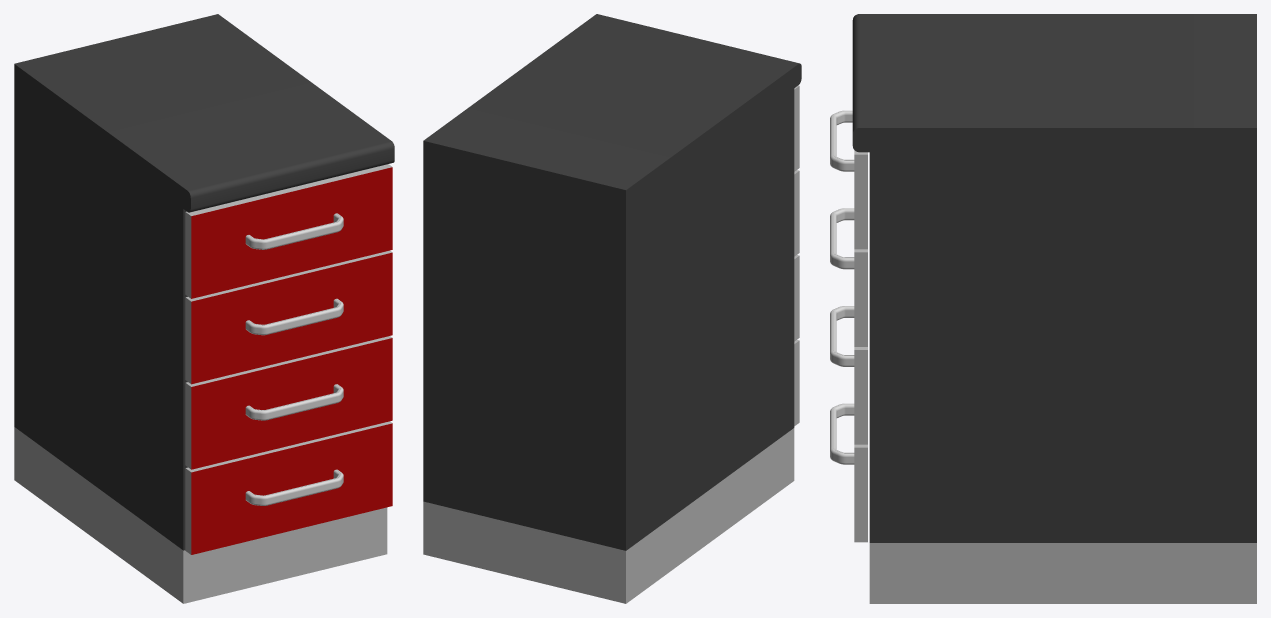
File: cassettiera.obj
3 views of the same model, side by side, from view 1: azimuth 30°, elevation 25°; view 2: azimuth 150°, elevation 25°; view 3: azimuth 270°, elevation 25° (orthographic). The views are drawn at different scales.
Visible parts, largest first — view 1: Box55_1, Line68_3, Box57_7, Box582_9, Box602_15, Box562_5, Box592_12, Loft20_18, Loft19_17, Loft18_2, Loft21_19, Box60_14 (+7 smaller); view 2: Box55_1, Line68_3, Box57_7; view 3: Box55_1, Line68_3, Box57_7, Box563_6, Box603_16, Box583_10, Box593_13, Loft21_19, Loft19_17, Loft20_18, Loft18_2.
Boxes of the visible parts, x1=… form: Box55_1: x1=14, y1=85, x2=187, y2=550; Line68_3: x1=14, y1=14, x2=394, y2=212; Box57_7: x1=14, y1=427, x2=387, y2=603; Box582_9: x1=191, y1=338, x2=392, y2=469; Box602_15: x1=191, y1=167, x2=392, y2=298; Box562_5: x1=191, y1=423, x2=392, y2=554; Box592_12: x1=191, y1=252, x2=392, y2=384; Loft20_18: x1=245, y1=384, x2=343, y2=420; Loft19_17: x1=245, y1=298, x2=343, y2=335; Loft18_2: x1=245, y1=213, x2=343, y2=249; Loft21_19: x1=245, y1=469, x2=343, y2=505; Box60_14: x1=186, y1=164, x2=392, y2=215; Box55_1: x1=423, y1=88, x2=794, y2=550; Line68_3: x1=423, y1=14, x2=801, y2=211; Box57_7: x1=423, y1=428, x2=794, y2=603; Box55_1: x1=869, y1=152, x2=1256, y2=542; Line68_3: x1=852, y1=14, x2=1256, y2=152; Box57_7: x1=869, y1=543, x2=1256, y2=603; Box563_6: x1=854, y1=447, x2=867, y2=542; Box603_16: x1=854, y1=154, x2=867, y2=249; Box583_10: x1=854, y1=350, x2=867, y2=444; Box593_13: x1=854, y1=252, x2=867, y2=346; Loft21_19: x1=830, y1=403, x2=854, y2=464; Loft19_17: x1=830, y1=208, x2=854, y2=269; Loft20_18: x1=830, y1=306, x2=854, y2=366; Loft18_2: x1=830, y1=110, x2=854, y2=171.
Bounding box in the file's own units: 40 × 78 × 63.38.
